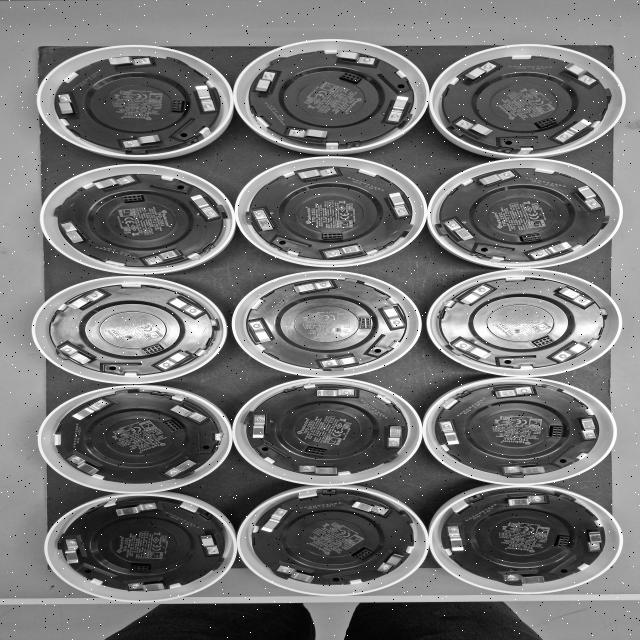yaysiz: (558, 60, 599, 86), (69, 398, 113, 422), (274, 564, 321, 586), (452, 338, 496, 361), (556, 117, 594, 142), (459, 61, 500, 84), (555, 284, 594, 308), (66, 454, 108, 476), (552, 339, 592, 362), (186, 192, 220, 219), (455, 118, 497, 139), (121, 131, 167, 150), (529, 241, 575, 260), (59, 343, 97, 366), (384, 93, 414, 122), (57, 537, 86, 567), (258, 507, 290, 534), (164, 295, 205, 316), (570, 184, 603, 210), (327, 50, 380, 66), (283, 280, 336, 296), (458, 284, 493, 308), (66, 291, 105, 312), (292, 167, 340, 184), (163, 457, 200, 479), (438, 419, 466, 448), (196, 527, 224, 556), (143, 248, 188, 266), (112, 501, 159, 518), (348, 499, 392, 517), (383, 190, 411, 218), (90, 175, 136, 192), (474, 170, 517, 188), (443, 219, 475, 243), (124, 576, 172, 592), (167, 404, 207, 423), (160, 348, 193, 371), (61, 220, 90, 246), (379, 304, 407, 330), (192, 83, 216, 113), (323, 243, 368, 259), (503, 461, 550, 476), (252, 70, 279, 96), (499, 571, 553, 584), (247, 320, 275, 345), (380, 549, 408, 572), (103, 56, 152, 69), (298, 463, 347, 476), (252, 209, 277, 234), (56, 91, 79, 118), (247, 413, 269, 441), (491, 386, 532, 401), (319, 354, 362, 368), (446, 524, 466, 554), (503, 494, 549, 507), (577, 415, 599, 442), (287, 128, 332, 141), (306, 388, 359, 399), (584, 527, 605, 553), (387, 421, 403, 449)
